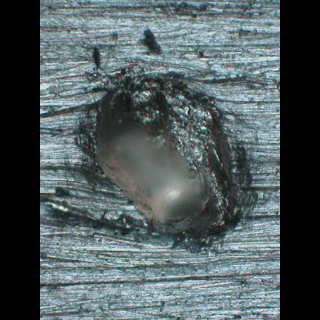d: (74, 63, 263, 258)
